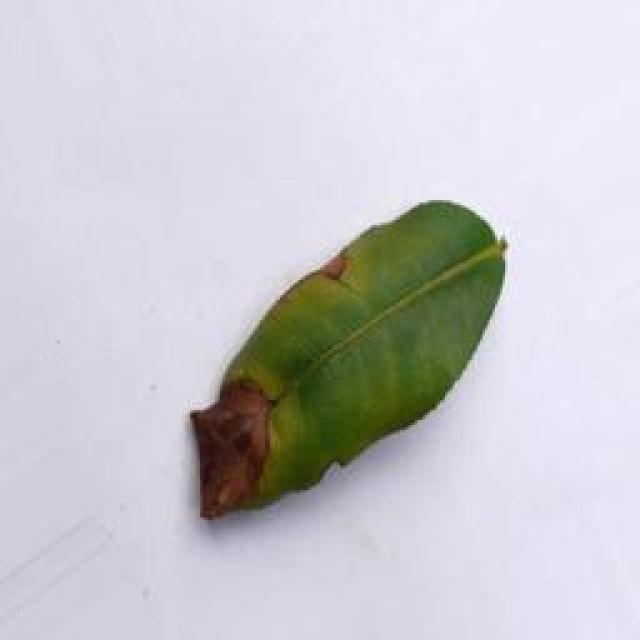Brown Blight: (180, 191, 529, 533)
